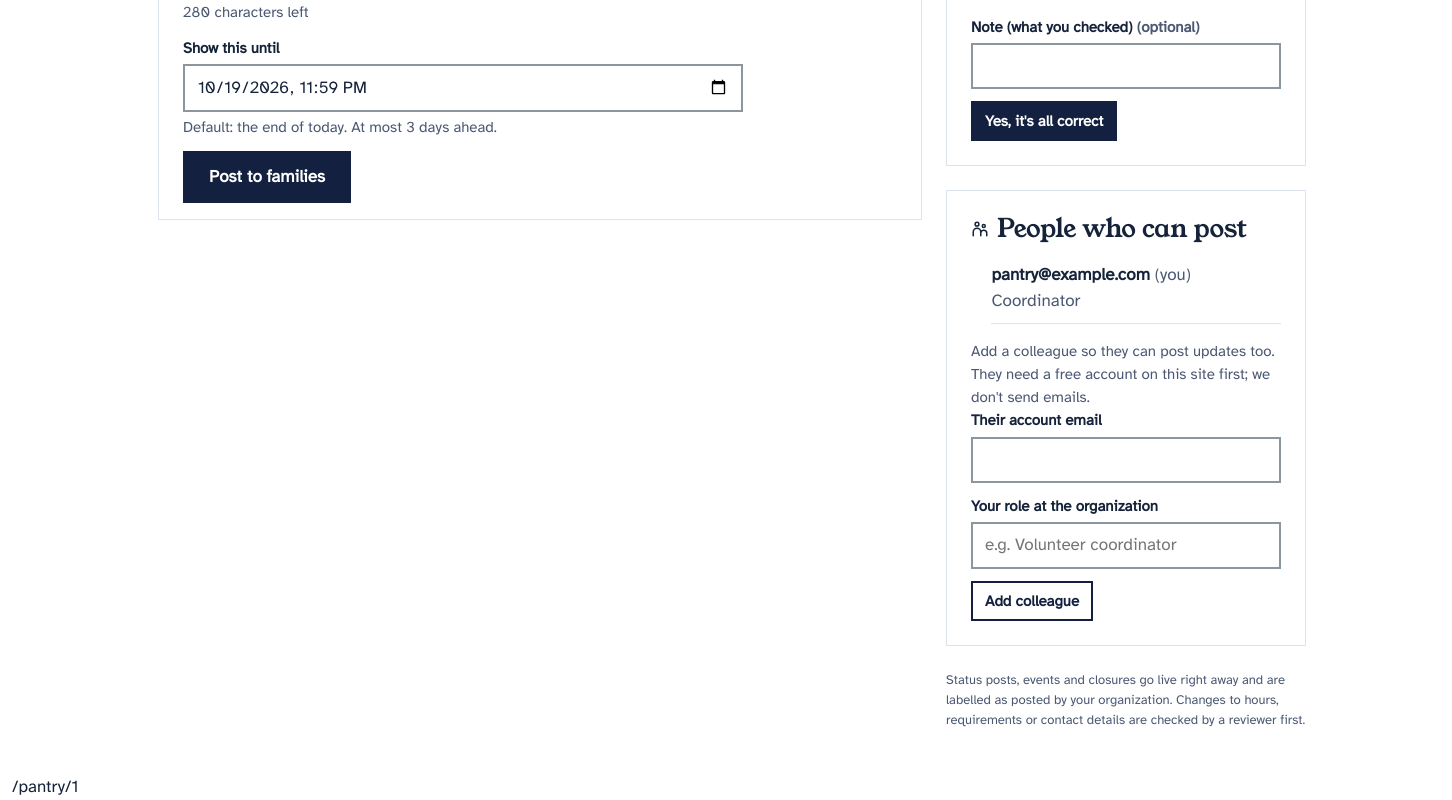
Scenario: provider portal: dashboard › explains when a colleague has no account yet
The width and height of the screenshot is (1452, 800).
(page scrolled)
Type "nobody@example.org" into the field labelled "Their account email" at x=1126, y=460, box [971,437,1281,483]
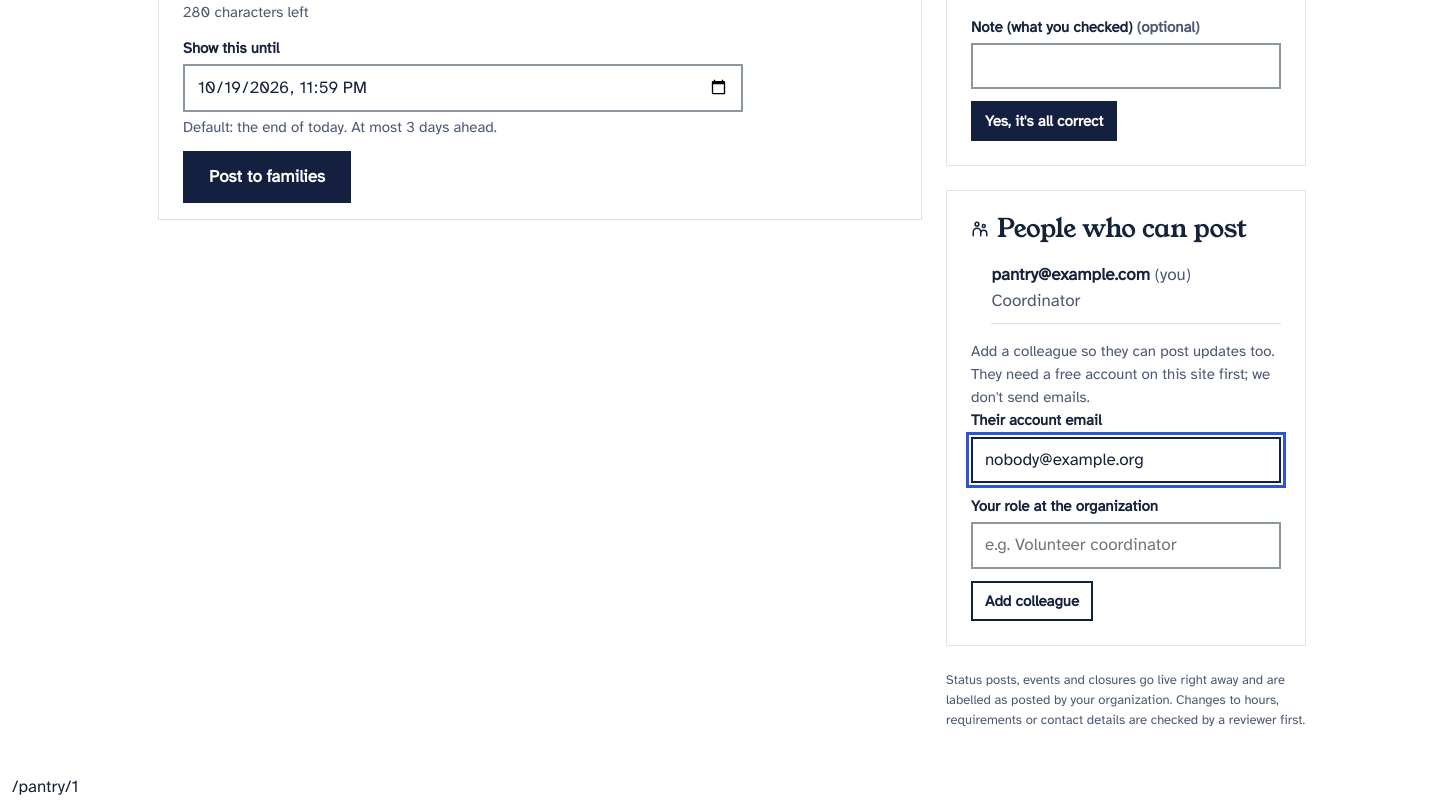
Type "Volunteer" into the field labelled "Your role at the organization" at x=1126, y=545, box [971,522,1281,569]
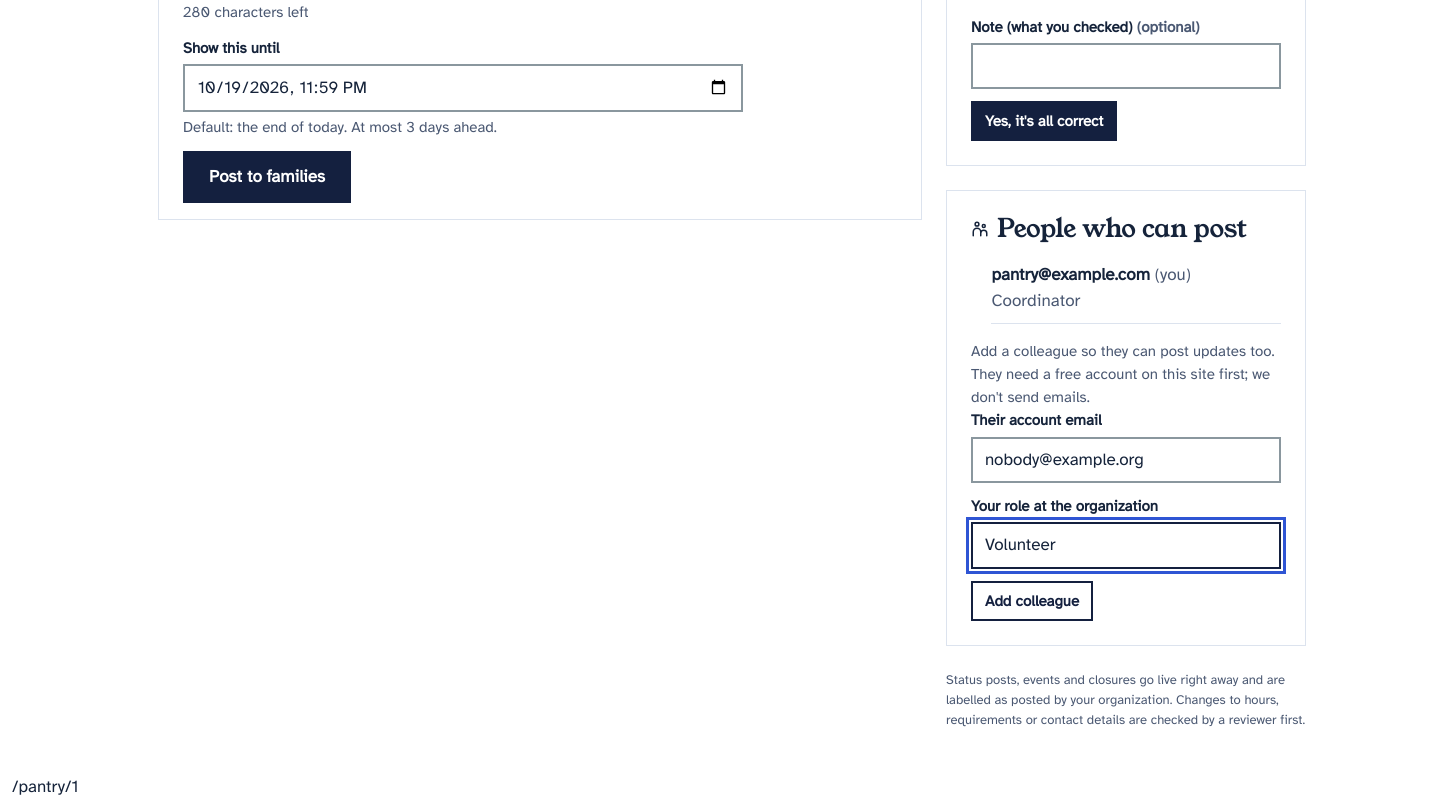
Click the button "Add colleague" at x=1032, y=601, box [971,581,1093,621]
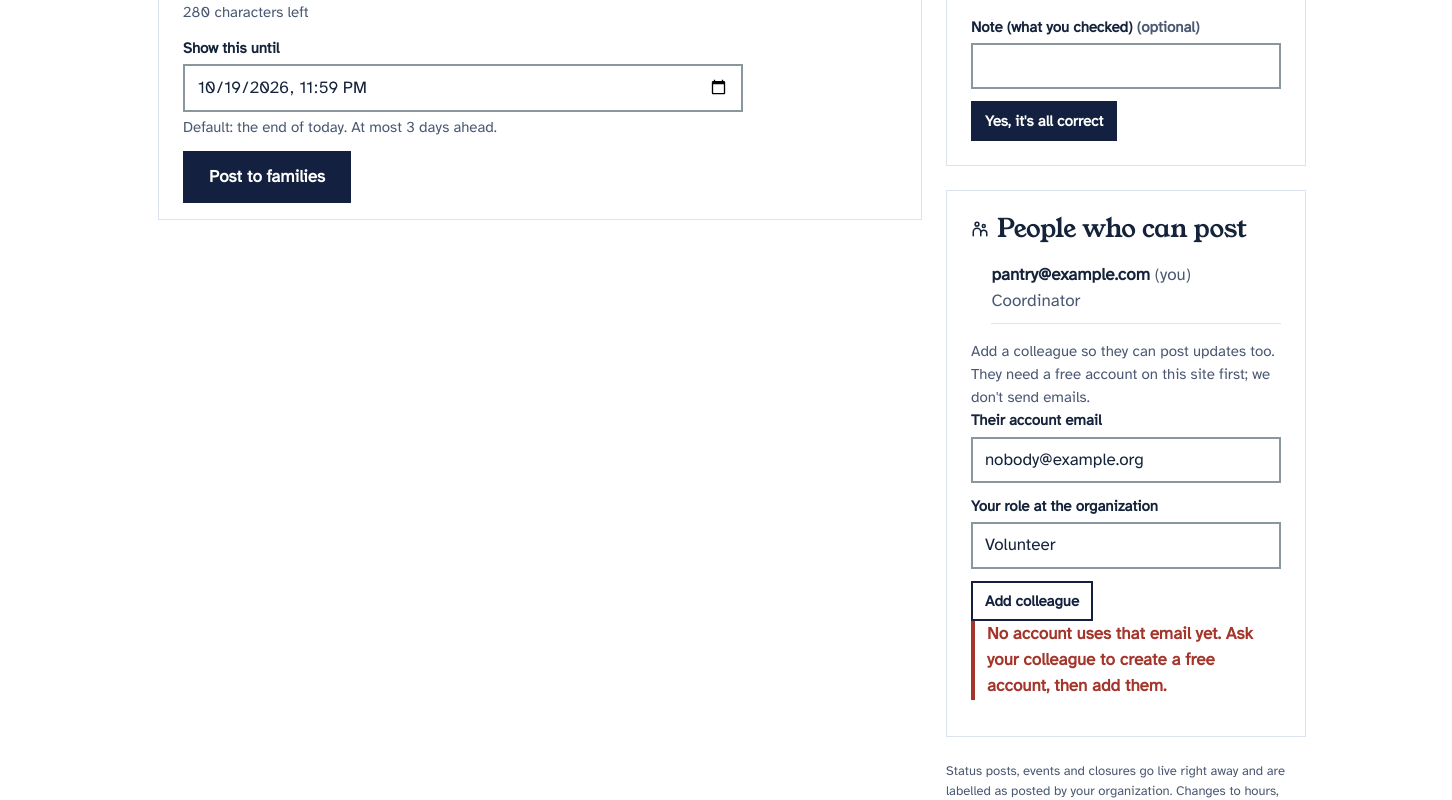
Check: the text "Ask your colleague to create a free account" is shown, box [987,623,1253,696]
